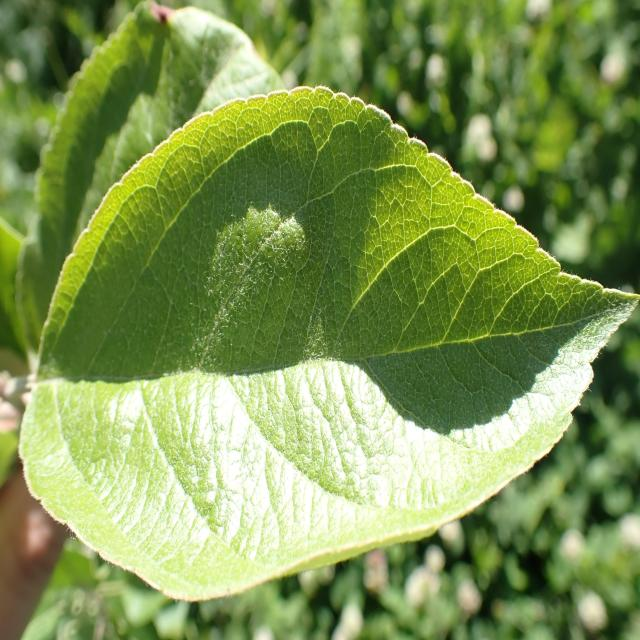healthy: (18, 84, 640, 604), (16, 2, 283, 367)
